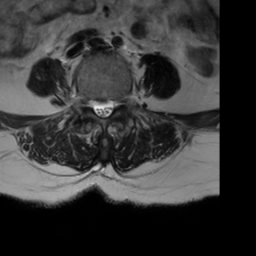CCS_normal: (100, 89, 107, 125)
LFS_normal: (114, 90, 123, 113)
LLS_normal: (107, 89, 114, 122)
RFS_normal: (84, 87, 92, 114)
RLS_normal: (92, 91, 100, 121)
